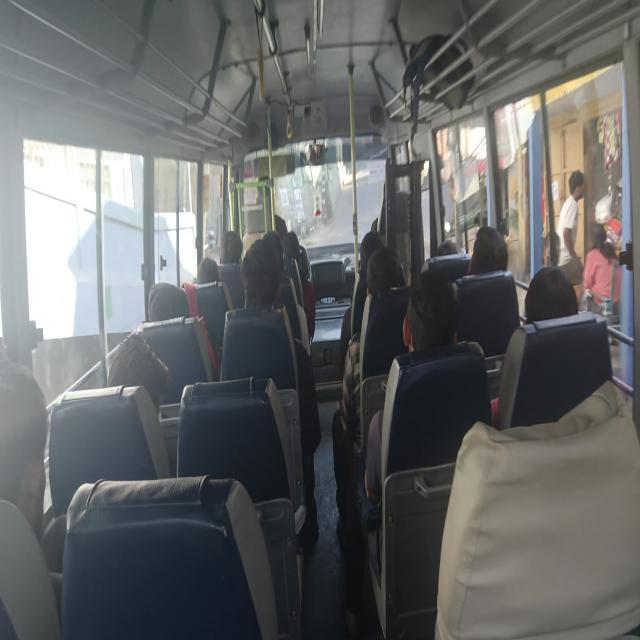person: (4, 357, 53, 522), (394, 272, 458, 360), (106, 327, 167, 403), (522, 264, 585, 335), (361, 242, 403, 306), (244, 237, 280, 311), (471, 224, 513, 280), (149, 284, 209, 322), (215, 226, 246, 272), (347, 224, 392, 253), (378, 171, 410, 202), (254, 168, 279, 206), (428, 236, 464, 260), (196, 251, 220, 286), (282, 227, 304, 258), (265, 230, 284, 262)
